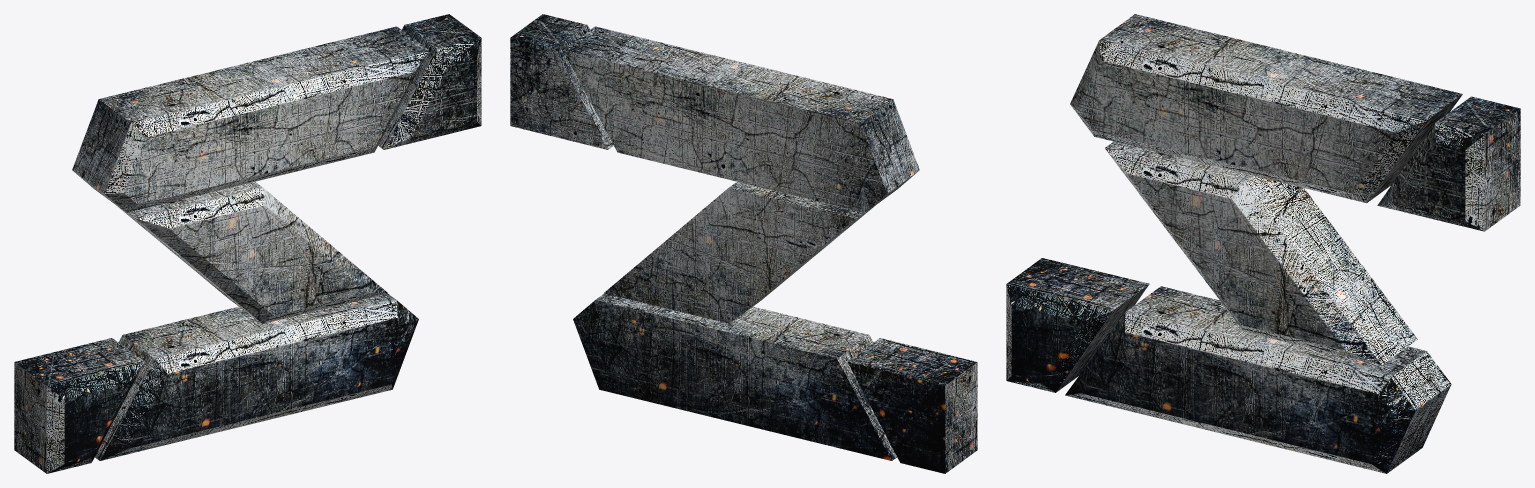
3 renders of one model, left to right at view 1: azimuth 30°, elevation 25°; view 2: azimuth 150°, elevation 25°; view 3: azimuth 330°, elevation 25°, orthographic. The views are drawn at different scales.
Visible parts, largest first — view 1: S; view 2: S; view 3: S.
Boxes of the visible parts, left/top/right/bottom form: S: left=14, top=14, right=481, bottom=473; S: left=510, top=14, right=977, bottom=473; S: left=1006, top=14, right=1520, bottom=473.
Size of the model in its own units: 77.07 by 55.96 by 12.
1 material, 1 textured.
